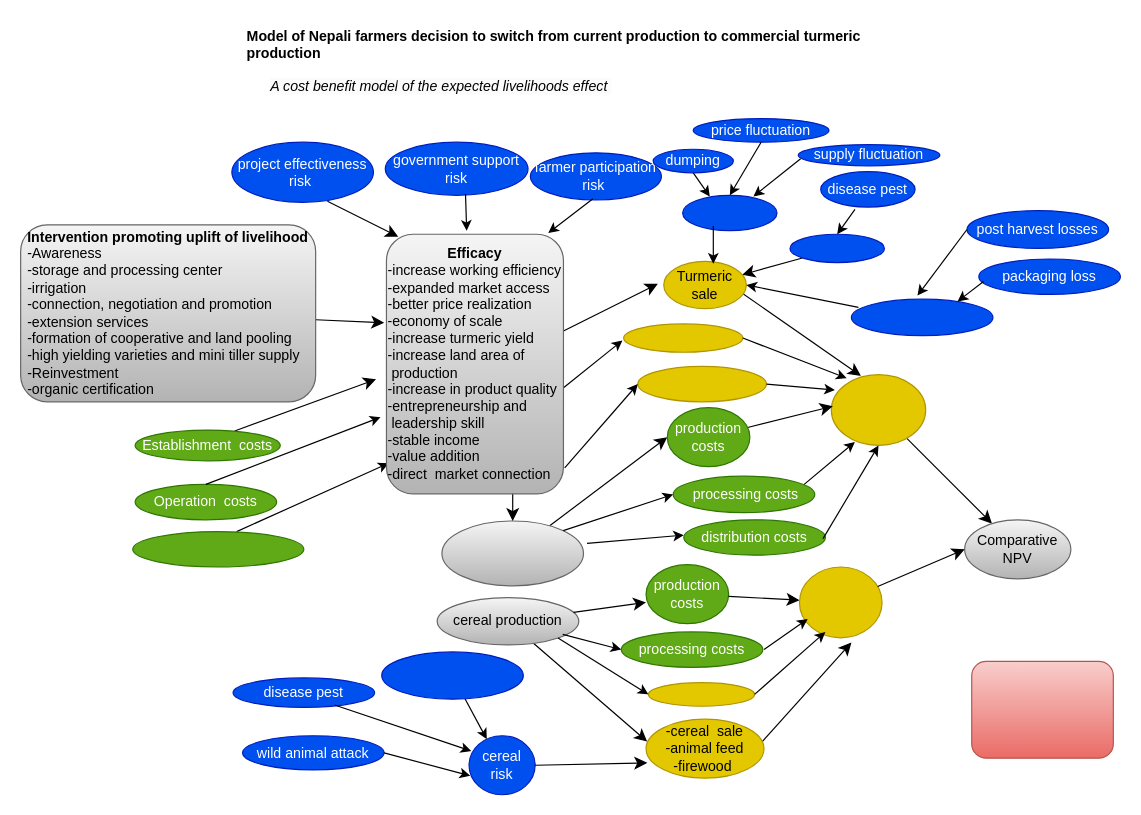
Some shapes in this 1141 by 815 pixel diagram are drawn without their labels. Here are the shapes that lost their labels. From the top down, the centre of each, then its label:
the point at 729,212: market risk
the point at 836,248: turmeric risk
the point at 682,337: capacity building
the point at 921,317: postharvest risk
the point at 701,383: improve livelihood
the point at 878,409: NPV of turmeric
the point at 218,548: communication and marketing costs
the point at 512,553: Turmeric production
the point at 840,602: NPV of cereal
the point at 452,675: extremes climatic events
the point at 701,693: food access
the point at 1042,709: legend yellow = revenue green = cost blue = risk grey=neutral
